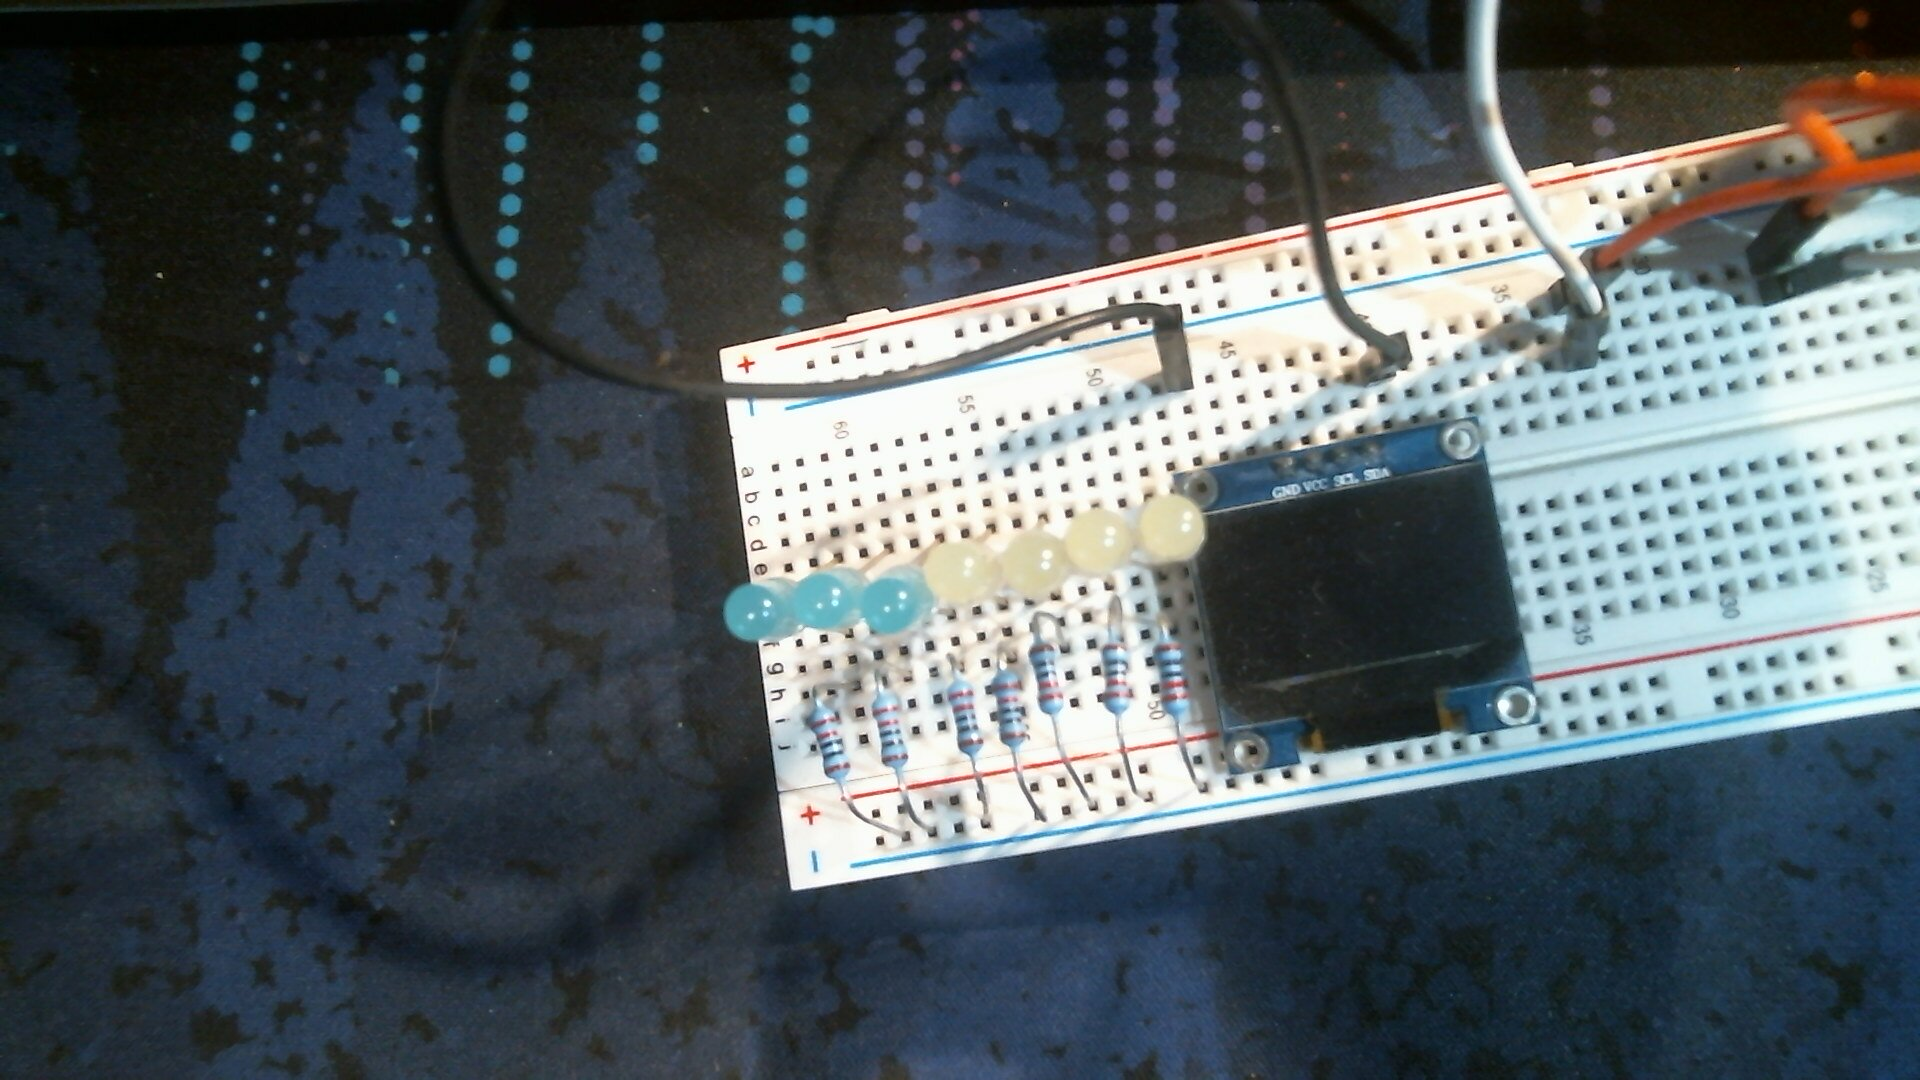resistor: (802, 700, 853, 786), (1149, 629, 1193, 727), (942, 673, 988, 764), (986, 667, 1034, 754), (868, 688, 913, 775), (1026, 633, 1067, 723), (1098, 625, 1135, 721)
